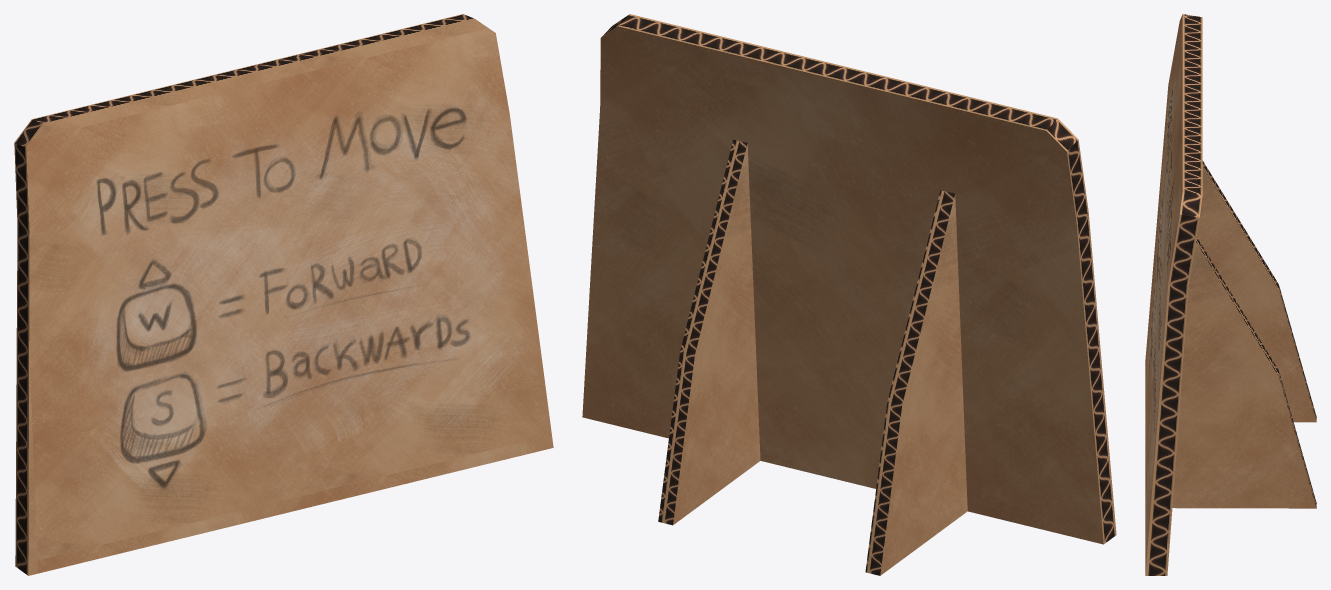
The model's file is Carboard Cut Out Movement Tutorial.fbx.
3 renders of one model, left to right at view 1: azimuth 30°, elevation 25°; view 2: azimuth 150°, elevation 25°; view 3: azimuth 270°, elevation 25°, orthographic. The views are drawn at different scales.
Parts seen in each view (by area): view 1: Cardboard Cut-Out.002; view 2: Cardboard Cut-Out.002; view 3: Cardboard Cut-Out.002.
Part boxes in pixels (bbox=[...]): Cardboard Cut-Out.002: bbox=[14, 14, 553, 575]; Cardboard Cut-Out.002: bbox=[582, 14, 1116, 575]; Cardboard Cut-Out.002: bbox=[1145, 14, 1316, 575].
Bounding box in the file's own units: 131 × 102 × 43.65.
